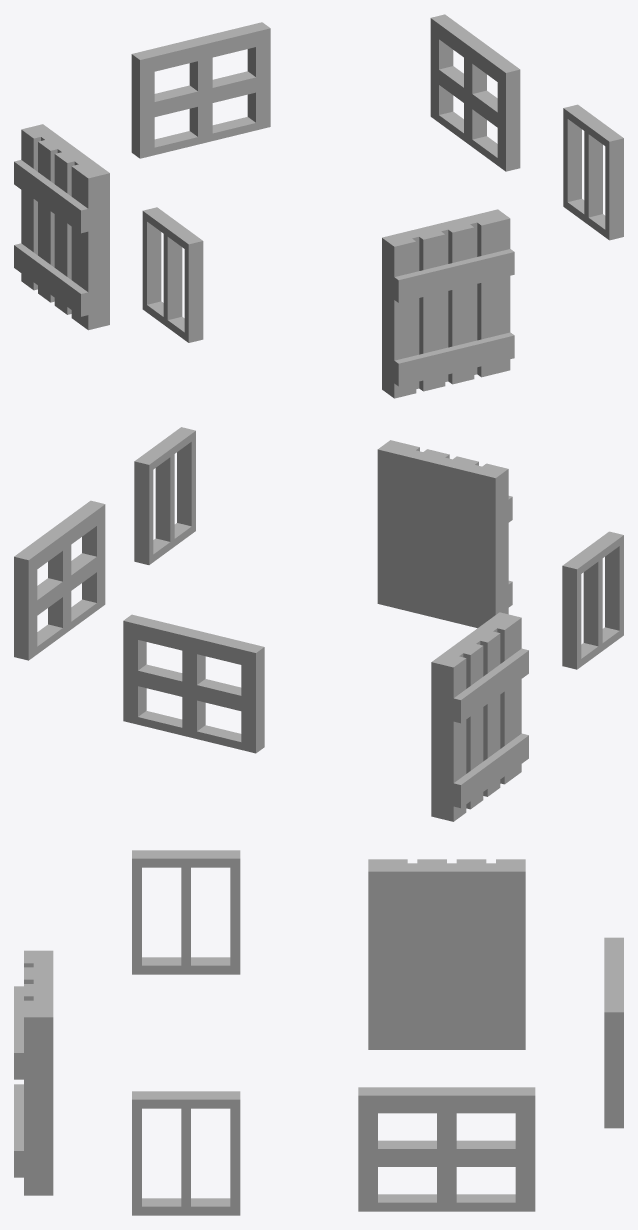
The model's file is cabin0-0.obj.
3 renders of one model, top to bottom at view 1: azimuth 30°, elevation 25°; view 2: azimuth 150°, elevation 25°; view 3: azimuth 270°, elevation 25°, orthographic. The views are drawn at different scales.
Size of the model in its own units: 6.1 by 2.1 by 6.2.
Materials: 1 (1 with a texture image).
